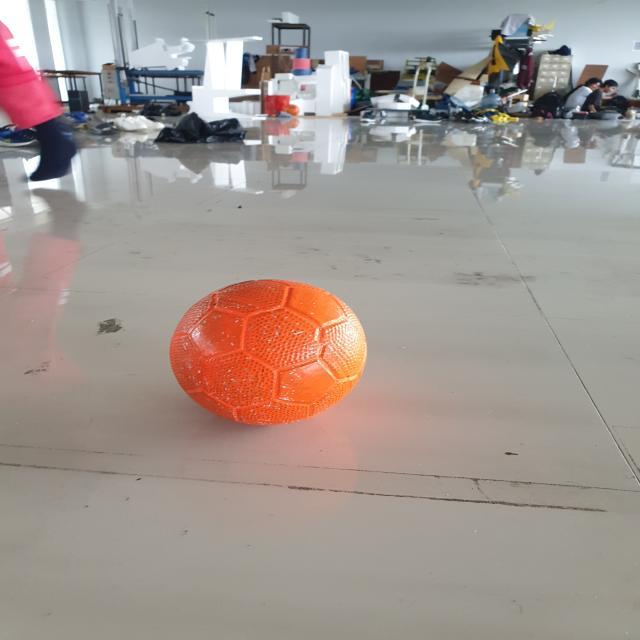bola: (170, 276, 374, 434)
